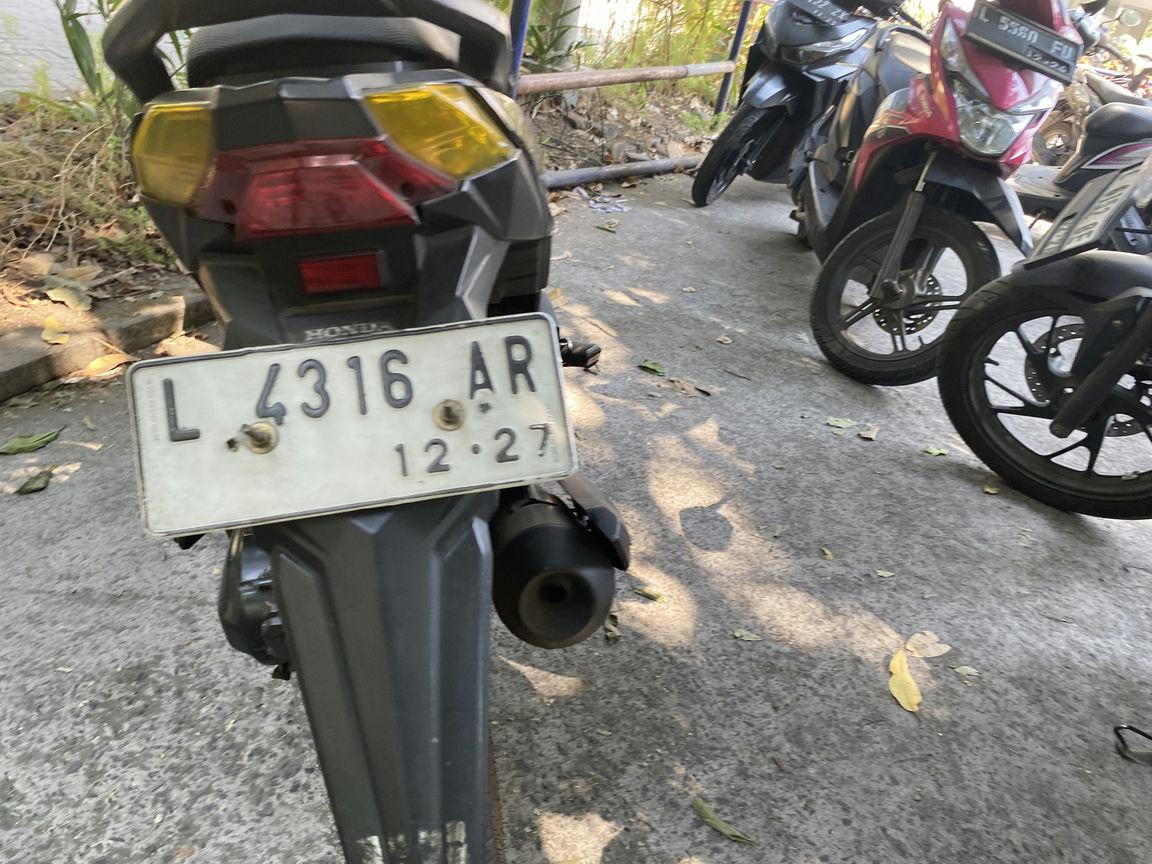plat: (126, 313, 578, 538)
